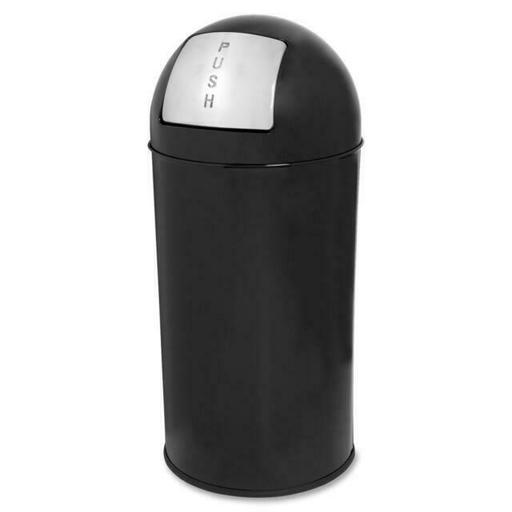Crewmate: (145, 11, 367, 496)
